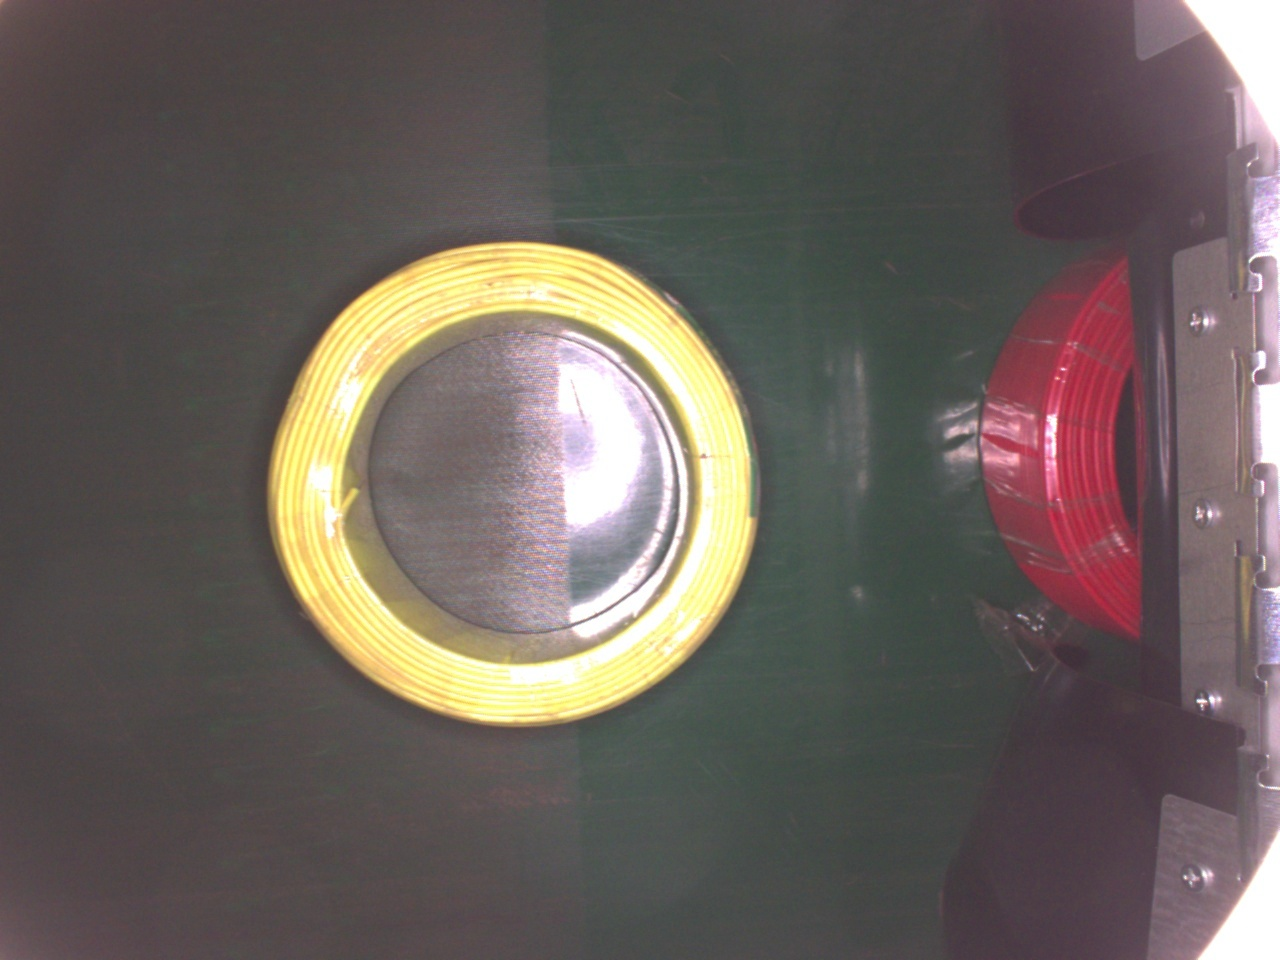red: (977, 247, 1148, 642)
yellow: (269, 235, 760, 726)
